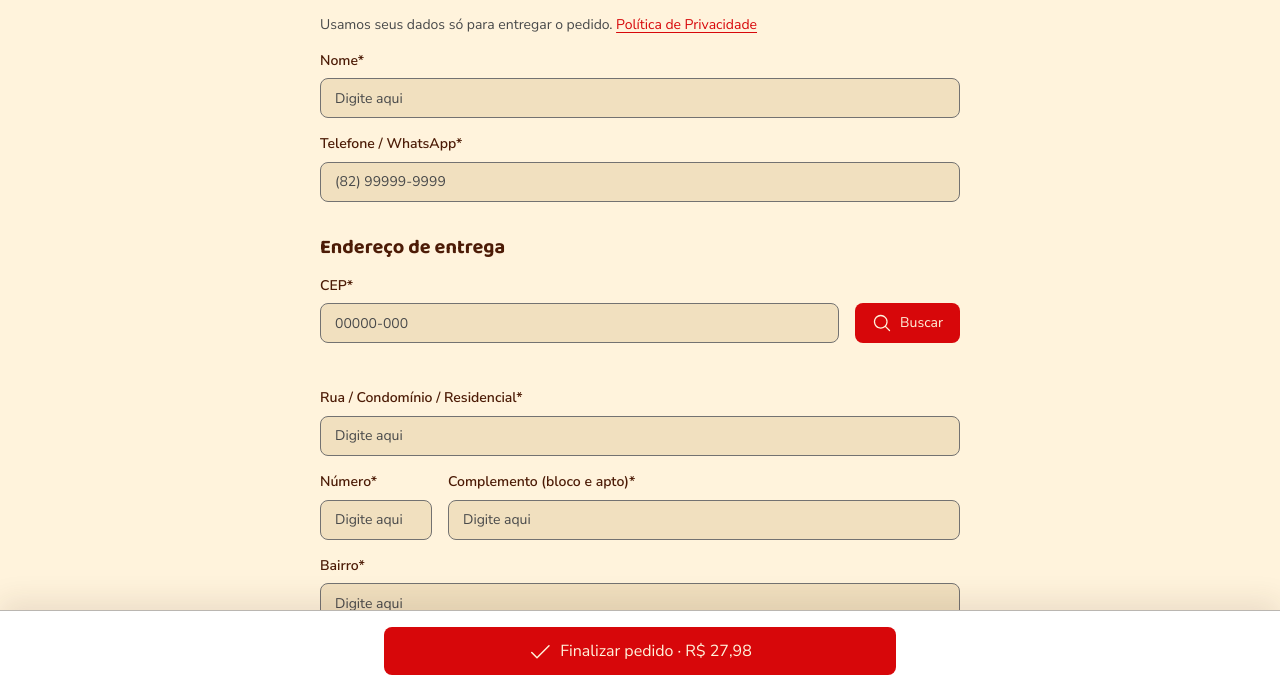
Scenario: taxa de entrega por CEP no Seu pedido › de 1 a 1,5 km a taxa é R$ 6,00 e entra no total
The image size is (1280, 691).
(page scrolled)
Type "57046000" into the field labelled "CEP*" at (580, 323), box [333,304,826,342]
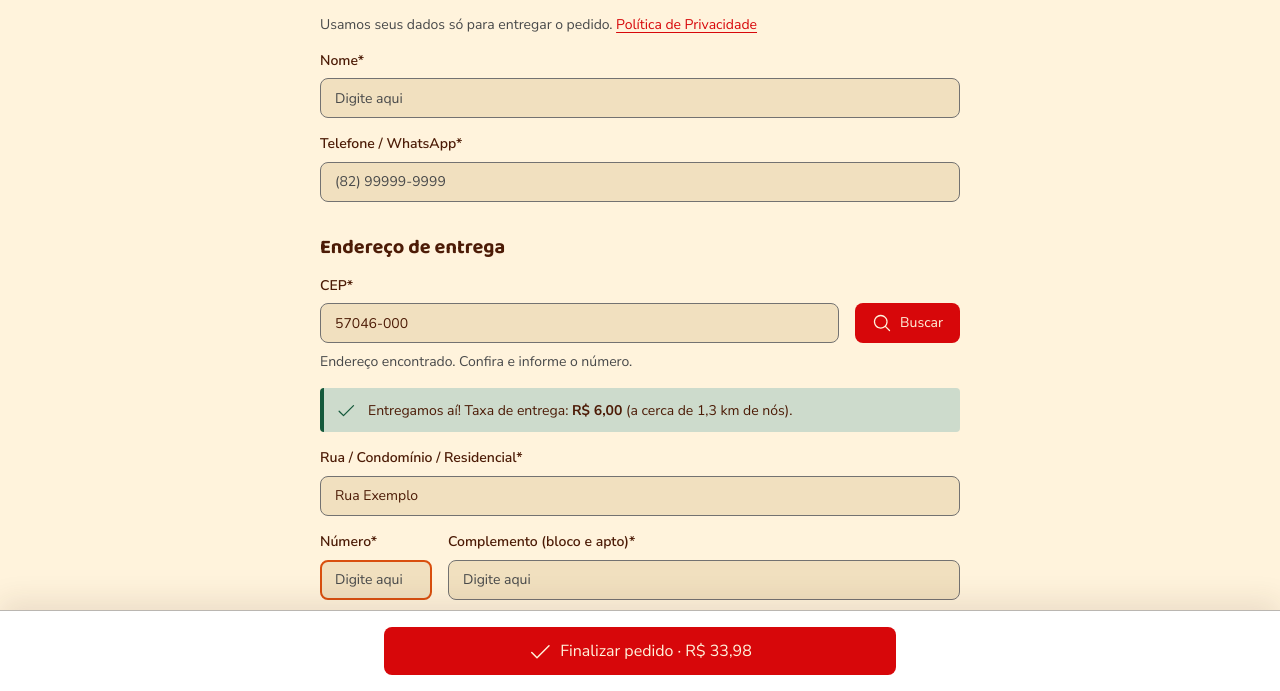
Now the text "Entregamos aí!" is shown, box [368,401,572,420]
Now the button "Finalizar pedido · R$ 33,98" is shown, box [384,627,896,675]
